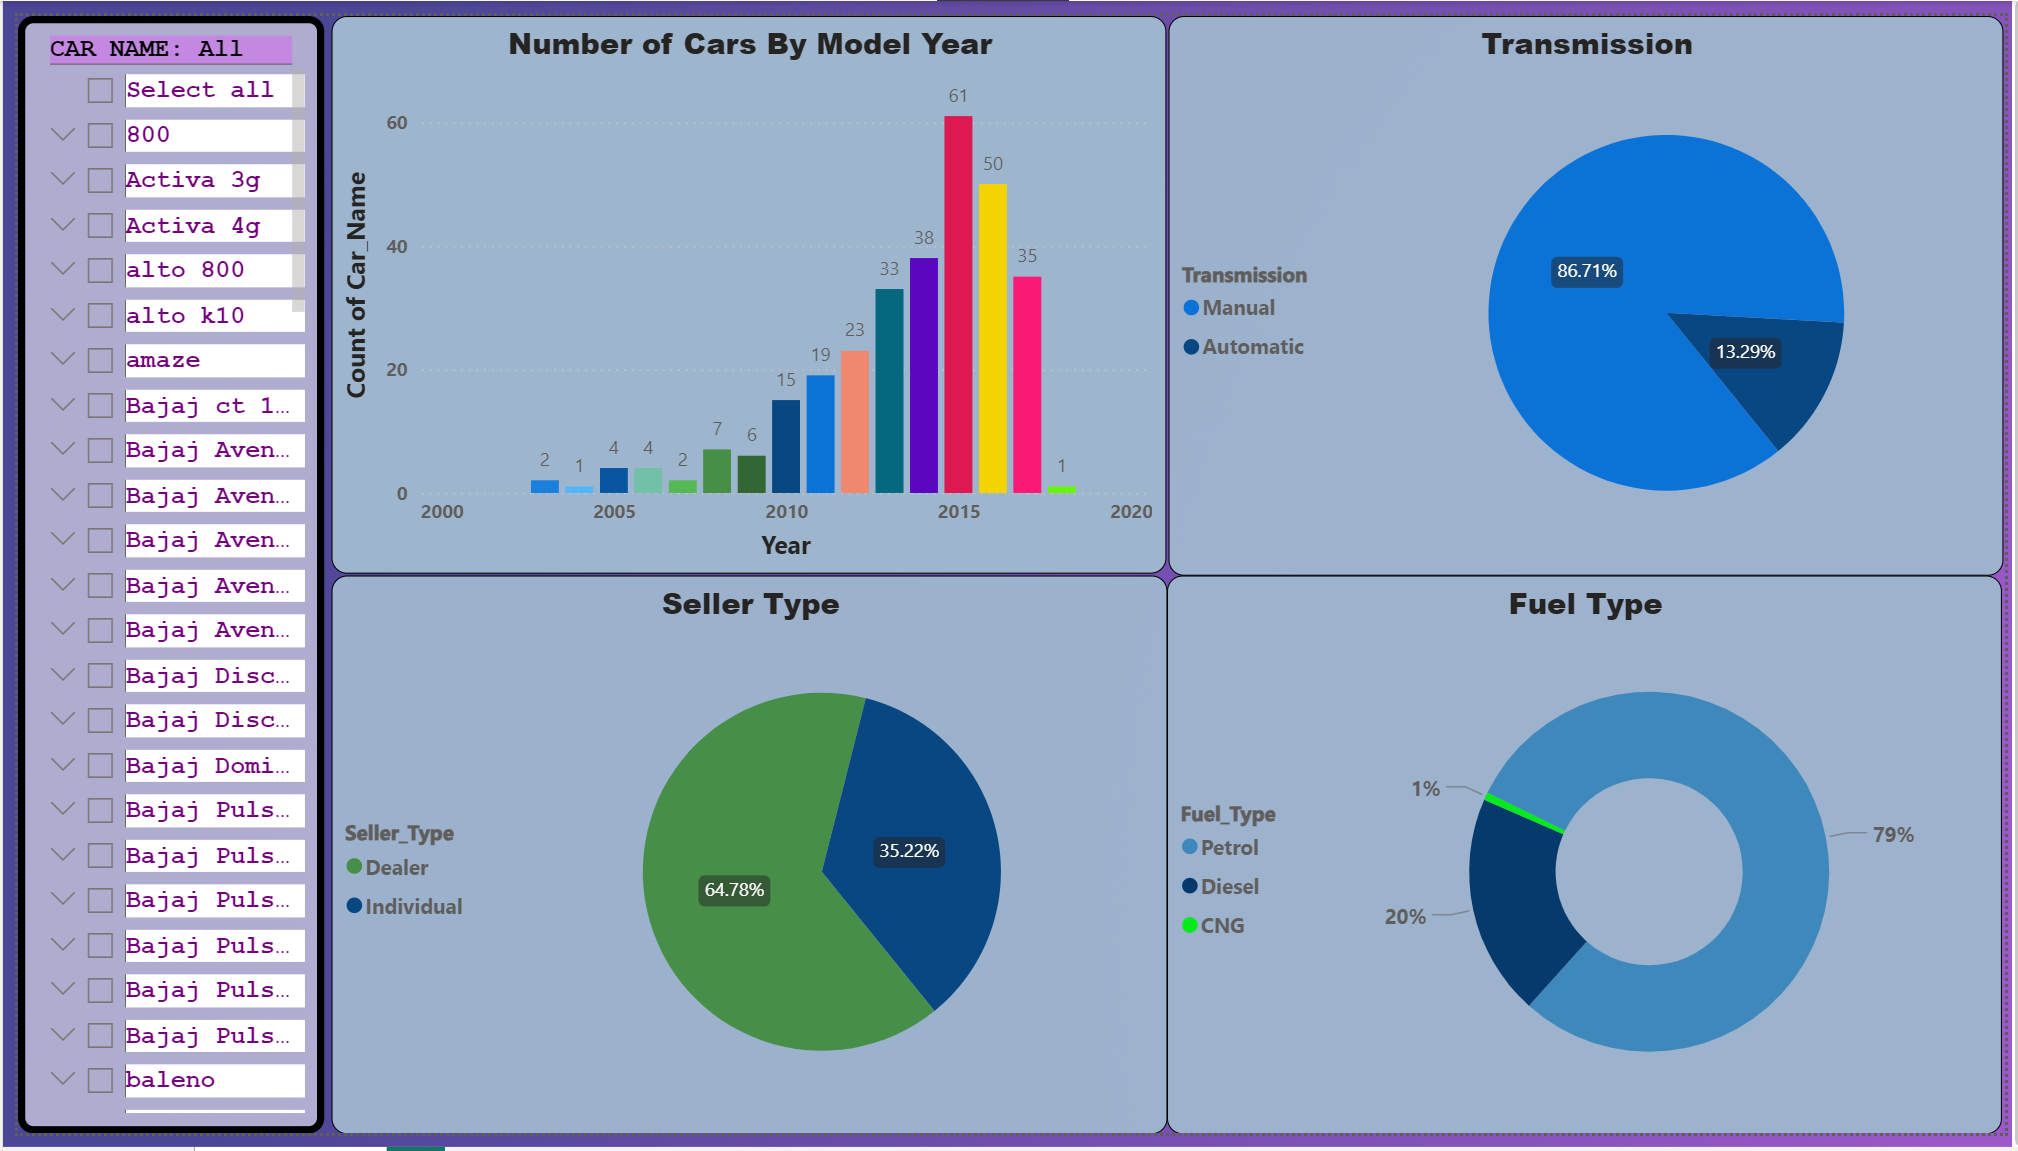

The dashboard page shown, as its layout file describes it:
{"tool":"powerbi","page":{"name":"DASHBOARD - I","canvas":[1280,720],"ordinal":0},"visuals":[{"type":"clusteredColumnChart","title":"Number of Cars By Model Year","fields":{"Category":["car_Dekho_DA_Report.Year"],"Y":["CountNonNull(car_Dekho_DA_Report.Car_Name)"]},"box":[202,0,538.2,359.6],"z":0},{"type":"pieChart","title":"Seller Type","fields":{"Y":["CountNonNull(car_Dekho_DA_Report.Seller_Type)"],"Category":["car_Dekho_DA_Report.Seller_Type"]},"box":[201.8,360.1,538.9,360.1],"z":1000},{"type":"donutChart","title":"Fuel Type","fields":{"Y":["CountNonNull(car_Dekho_DA_Report.Fuel_Type)"],"Category":["car_Dekho_DA_Report.Fuel_Type"]},"box":[740.7,360.1,538,360.1],"z":2000},{"type":"slicer","fields":{"Values":["car_Dekho_DA_Report.Car_Name","car_Dekho_DA_Report.Seller_Type","car_Dekho_DA_Report.Fuel_Type"]},"box":[0,0,197,720],"z":3000},{"type":"pieChart","title":"Transmission ","fields":{"Category":["car_Dekho_DA_Report.Transmission"],"Y":["CountNonNull(car_Dekho_DA_Report.Transmission)"]},"box":[741.4,0,538.2,360.8],"z":3001}]}

Visuals, with their boxes in screenshot pixels (x1, y1, x2, y2), scaled from the page's 1280x720 canvas onto the 2018x1151 screenshot:
"Number of Cars By Model Year" clusteredColumnChart: bbox=[318, 0, 1167, 575]
"Seller Type" pieChart: bbox=[318, 576, 1168, 1150]
"Fuel Type" donutChart: bbox=[1168, 576, 2016, 1150]
slicer - car_Dekho_DA_Report.Car_Name x car_Dekho_DA_Report.Seller_Type: bbox=[0, 0, 311, 1150]
"Transmission " pieChart: bbox=[1169, 0, 2017, 577]
